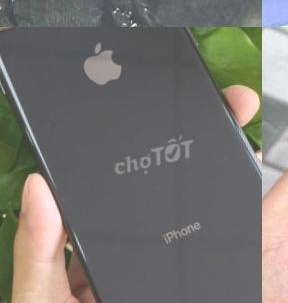scratch: (220, 142, 262, 189), (47, 54, 70, 95), (31, 149, 61, 177), (40, 111, 57, 127)
